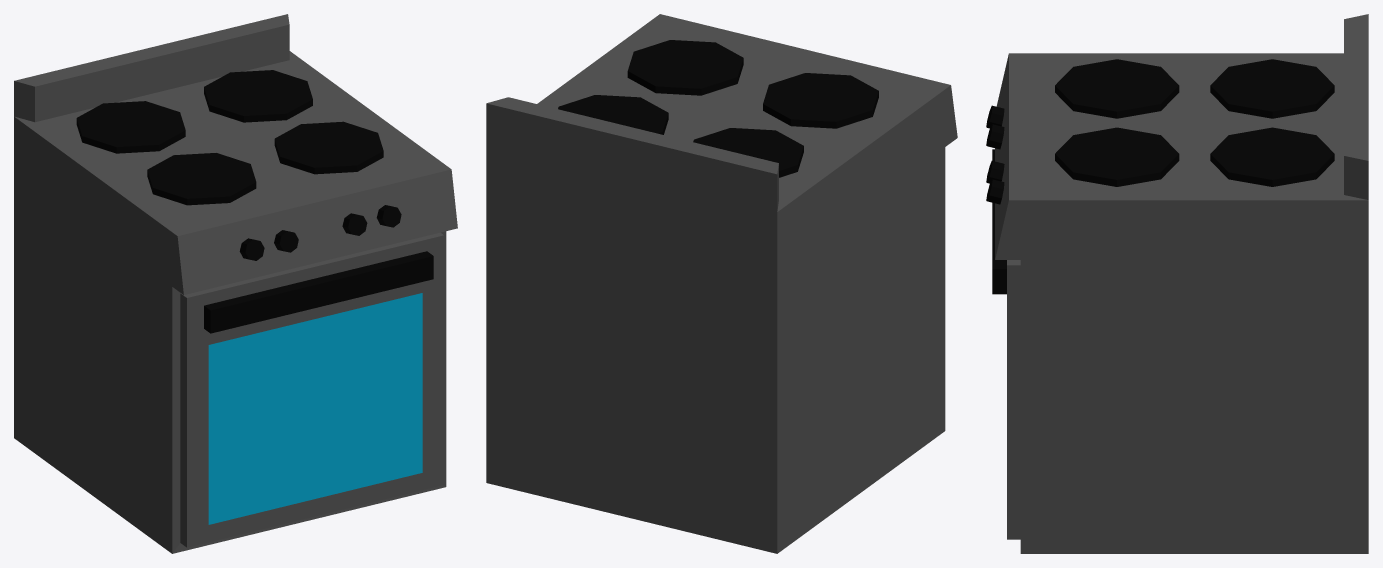
File: stove.fbx
The picture shows the model from 3 angles, left to right: view 1: azimuth 30°, elevation 25°; view 2: azimuth 150°, elevation 25°; view 3: azimuth 270°, elevation 25°; orthographic projection. The views are drawn at different scales.
Visible parts, largest first — view 1: stove; view 2: stove; view 3: stove.
Part boxes in pixels (x1,y1,x2,y2): stove: [14, 14, 457, 553]; stove: [486, 14, 957, 553]; stove: [986, 14, 1368, 553].
Size of the model in its own units: 200 by 249 by 220.
